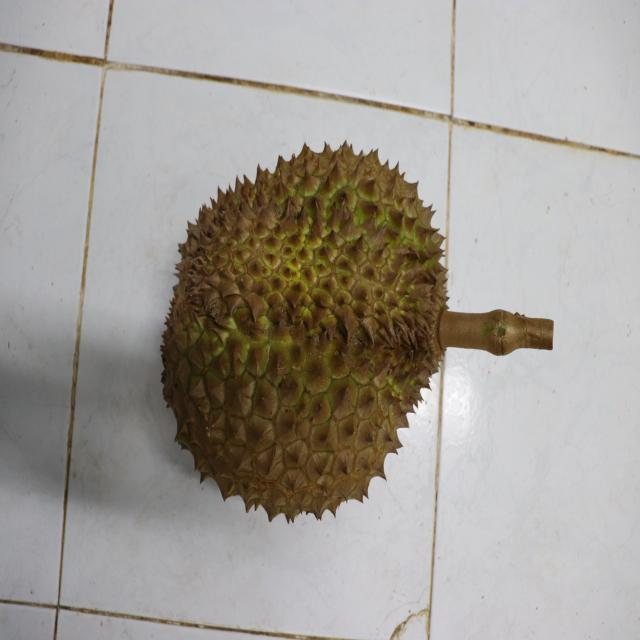mature: (157, 135, 452, 538)
